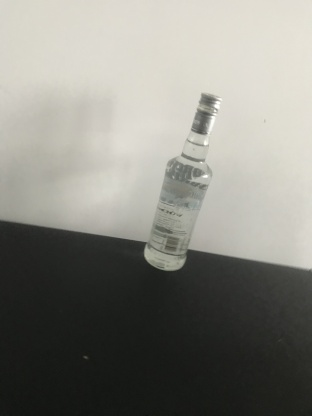nakretka: (189, 89, 223, 136)
